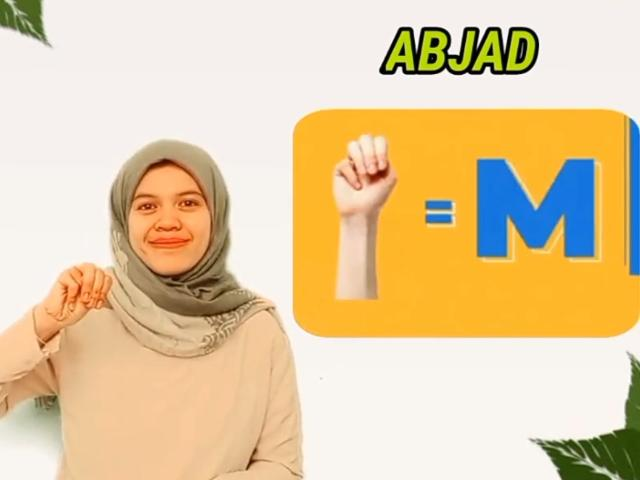M: (328, 128, 400, 298), (42, 260, 114, 330)
